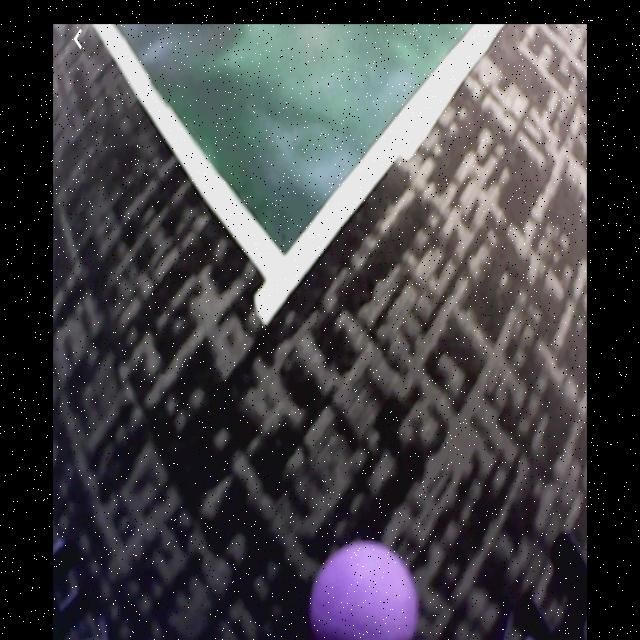ball: (310, 545, 418, 639)
